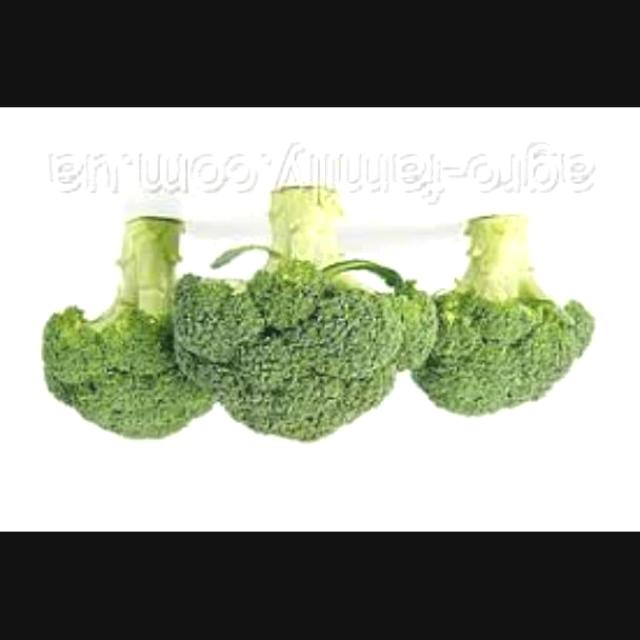Broccoli: (185, 154, 412, 470), (409, 219, 596, 459), (24, 208, 214, 438)
